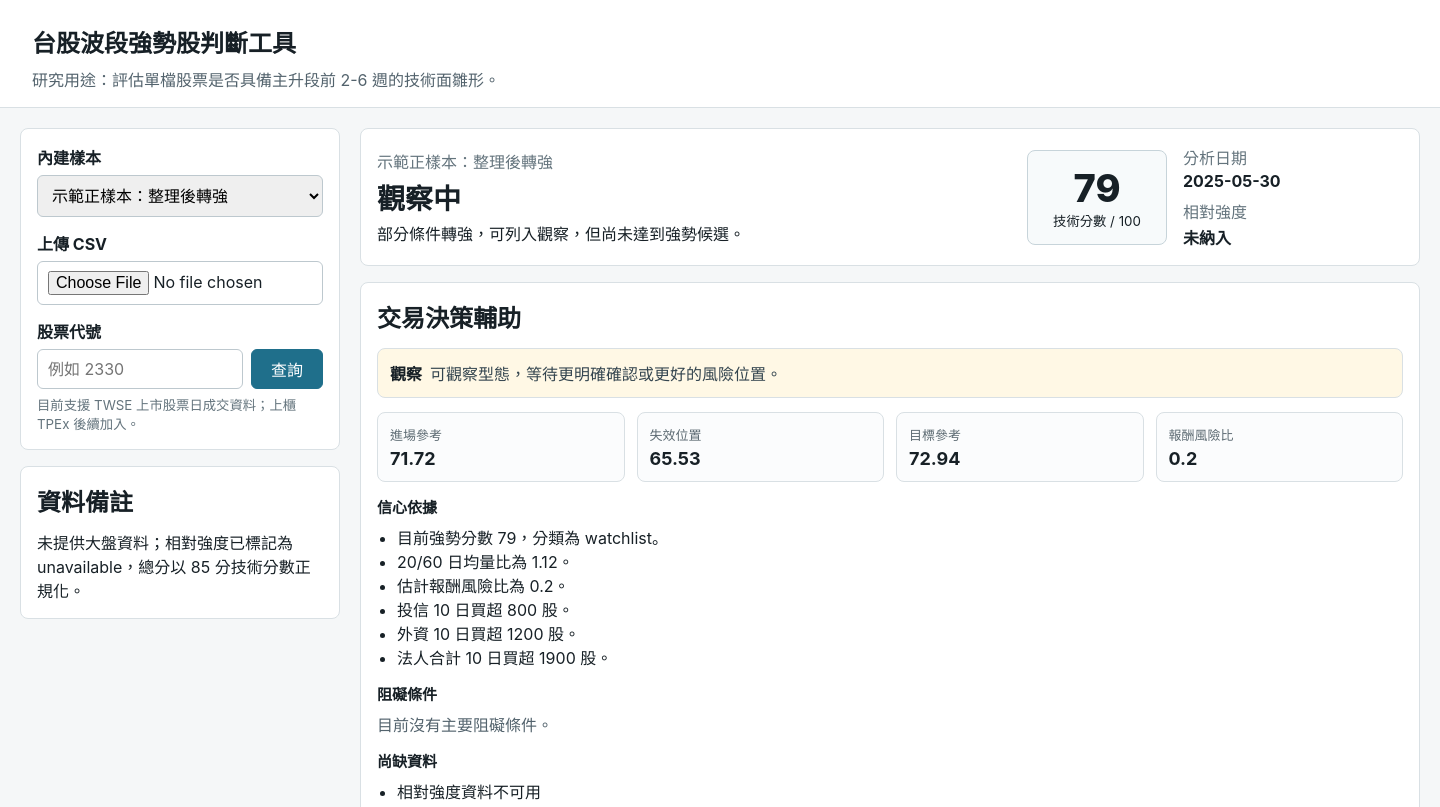
Test: App › loads stock data by stock code and analyzes the fetched rows
The image size is (1440, 807).
Type "2330" into the field labelled "股票代號" at (140, 369), box [37,349,243,389]
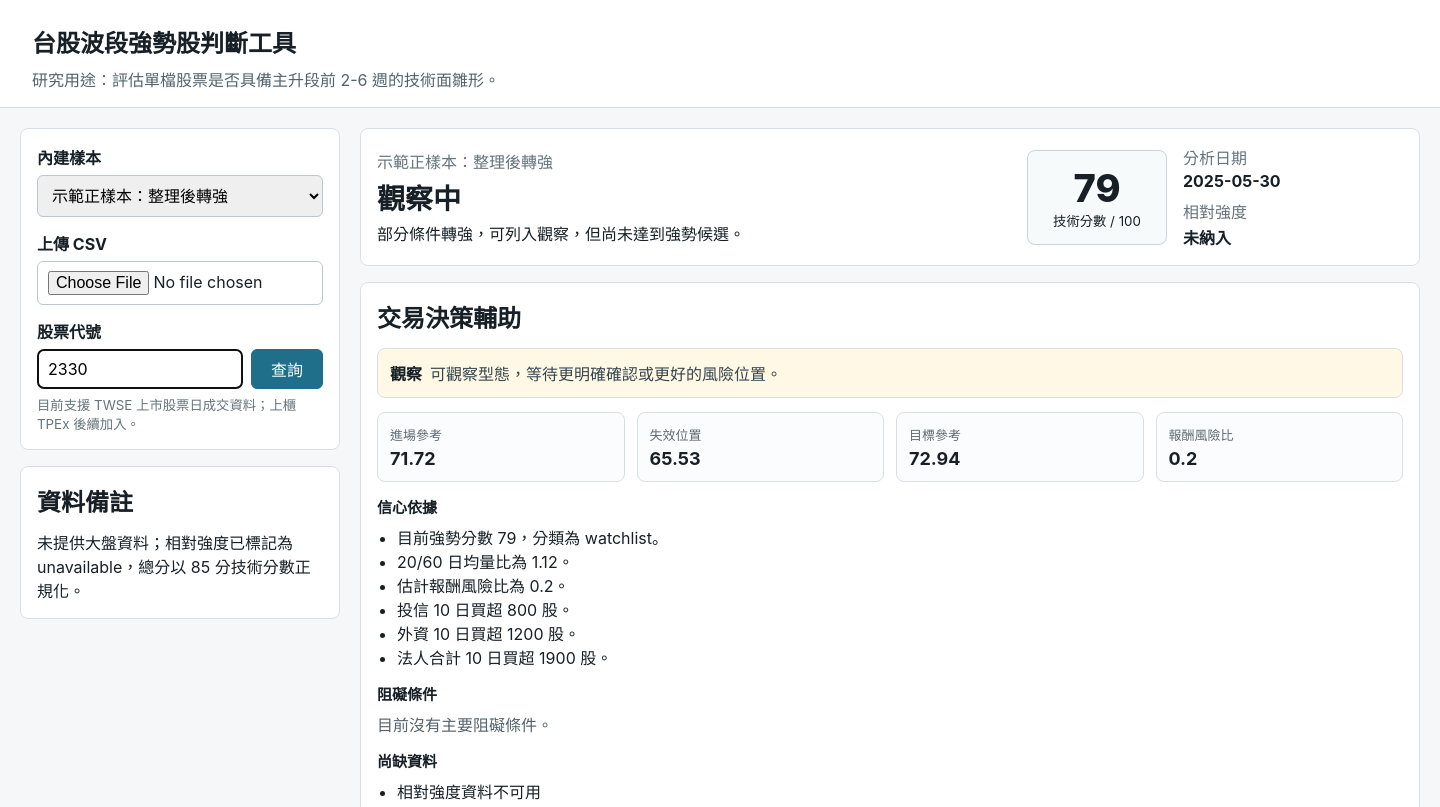
Click the button "查詢" at (287, 369), box [251,349,323,389]
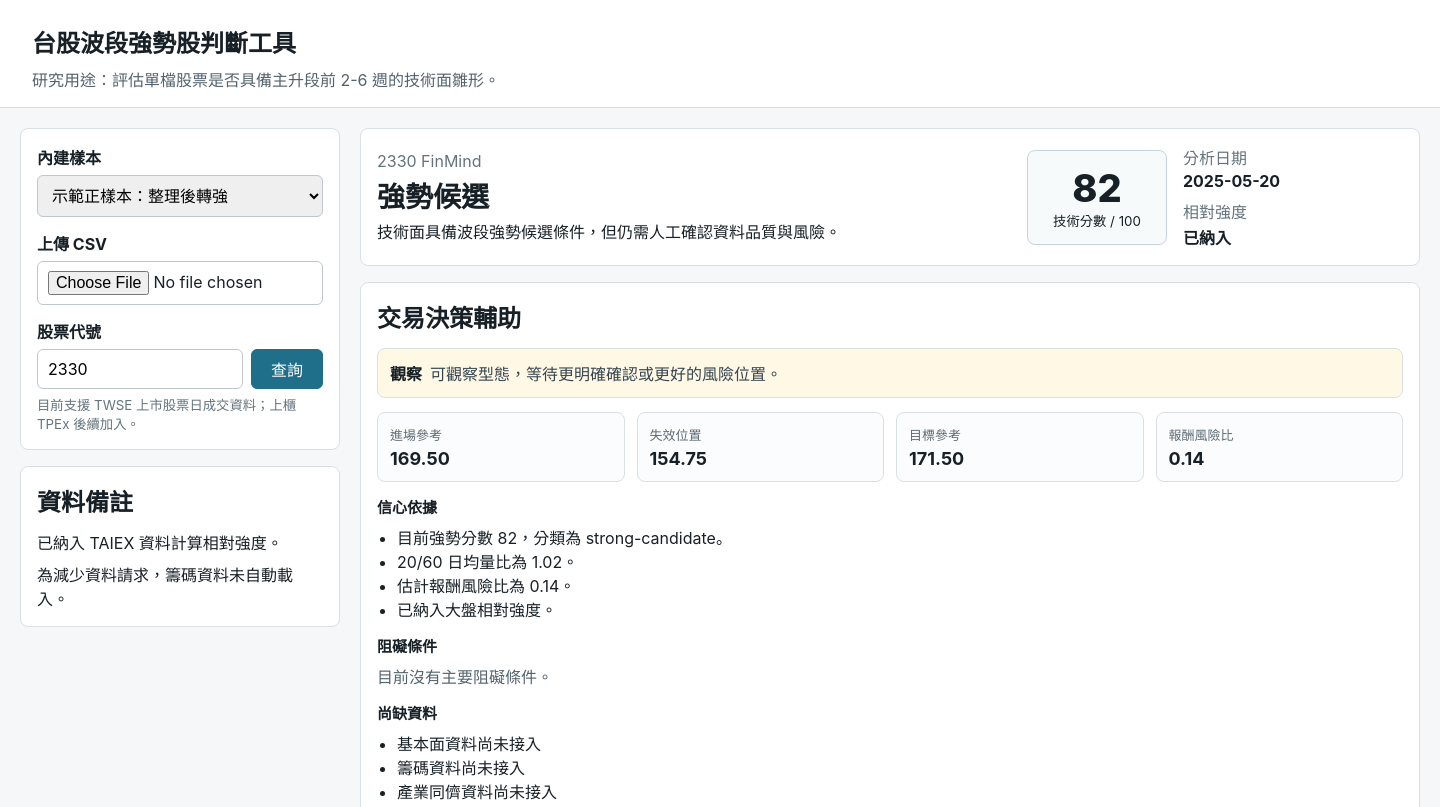
Now the text "2330 FinMind" is shown, box [377,151,482,171]
Now the text "已納入" is shown, box [1183,228,1231,248]
Now the list item "為減少資料請求，籌碼資料未自動載入。" is shown, box [37,562,323,610]
